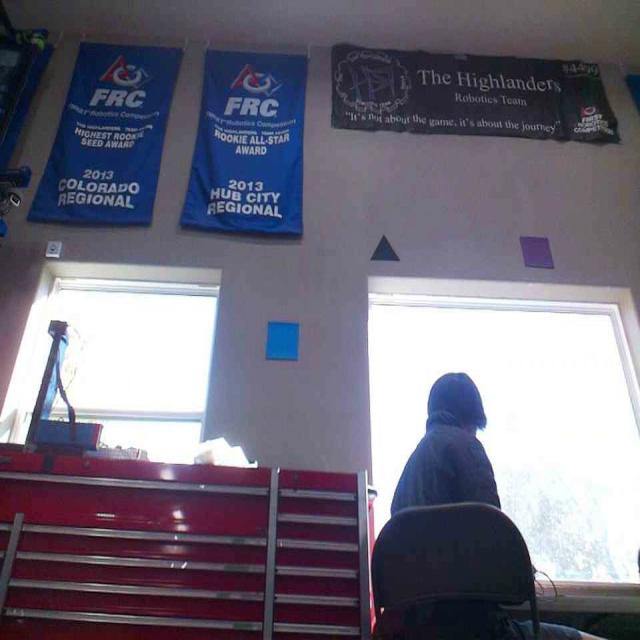square_blue: (266, 320, 300, 360)
square_purple: (518, 233, 555, 268)
triangle_black: (370, 233, 400, 260)
